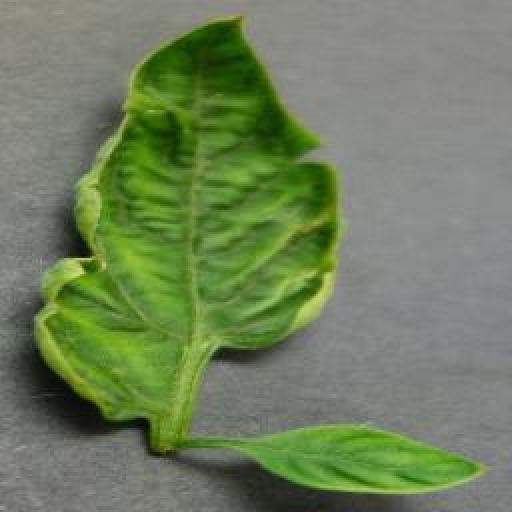Yellow Leaf Curl Virus: (38, 16, 337, 424), (239, 424, 487, 493)
